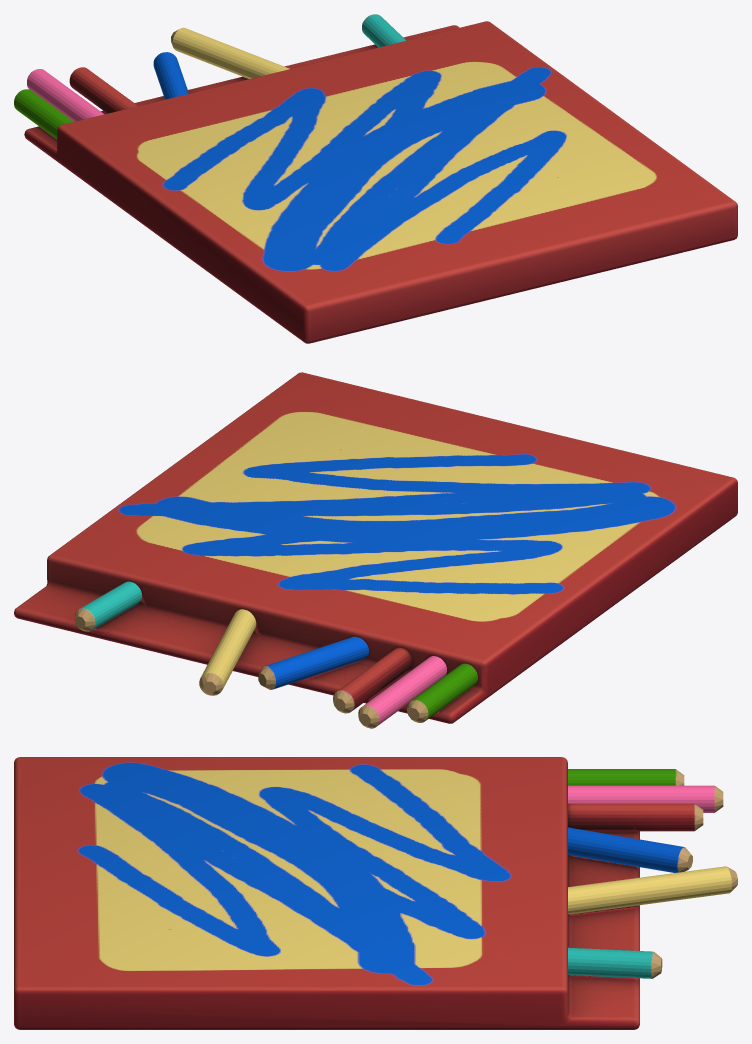
The model's file is ColoringPencil.fbx.
3 views of the same model, one above another, from view 1: azimuth 30°, elevation 25°; view 2: azimuth 150°, elevation 25°; view 3: azimuth 270°, elevation 25° (orthographic). The views are drawn at different scales.
Parts seen in each view (by area): view 1: CaixaDeLapisDeCor; view 2: CaixaDeLapisDeCor; view 3: CaixaDeLapisDeCor.
Part boxes in pixels (x1,y1,x2,y2): CaixaDeLapisDeCor: [14, 14, 737, 343]; CaixaDeLapisDeCor: [14, 372, 737, 728]; CaixaDeLapisDeCor: [14, 757, 737, 1029].
Size of the model in its own units: 0.3943 by 0.0333 by 0.5154.
